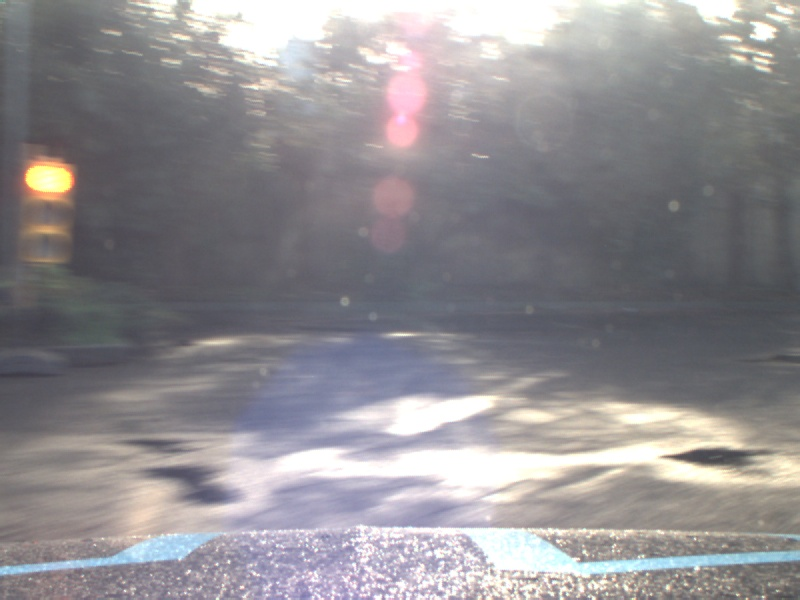Red: (23, 159, 75, 263)
